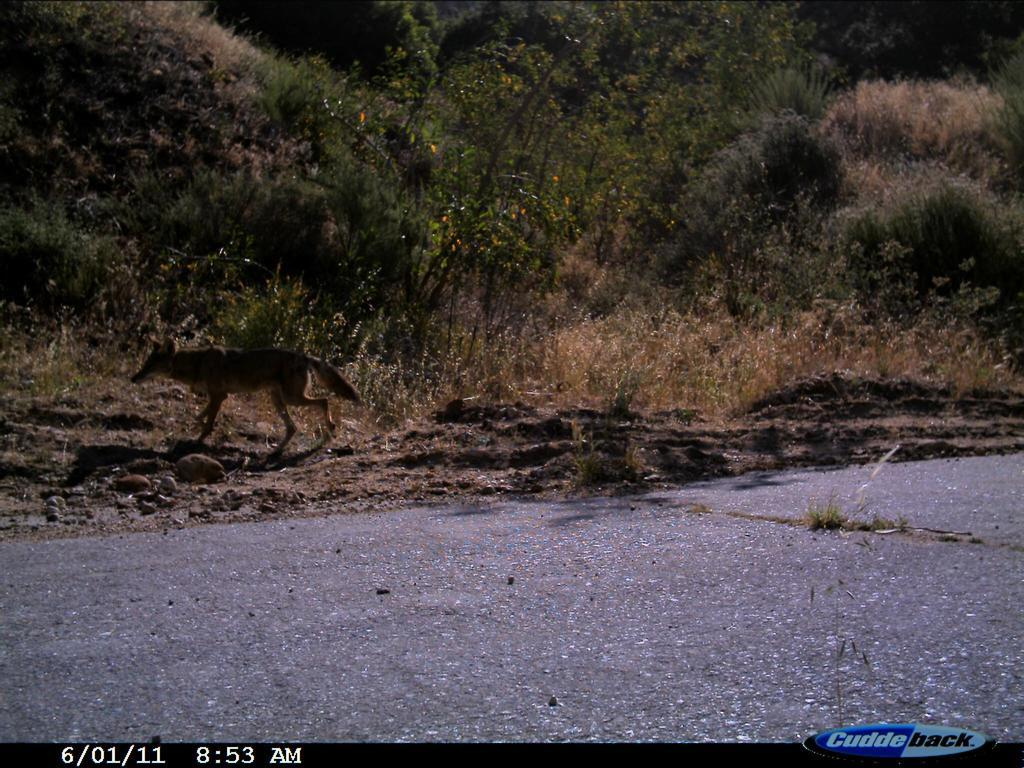coyote: (125, 327, 372, 465)
